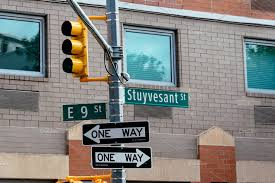oneWay: (80, 120, 150, 146), (90, 145, 154, 171)
